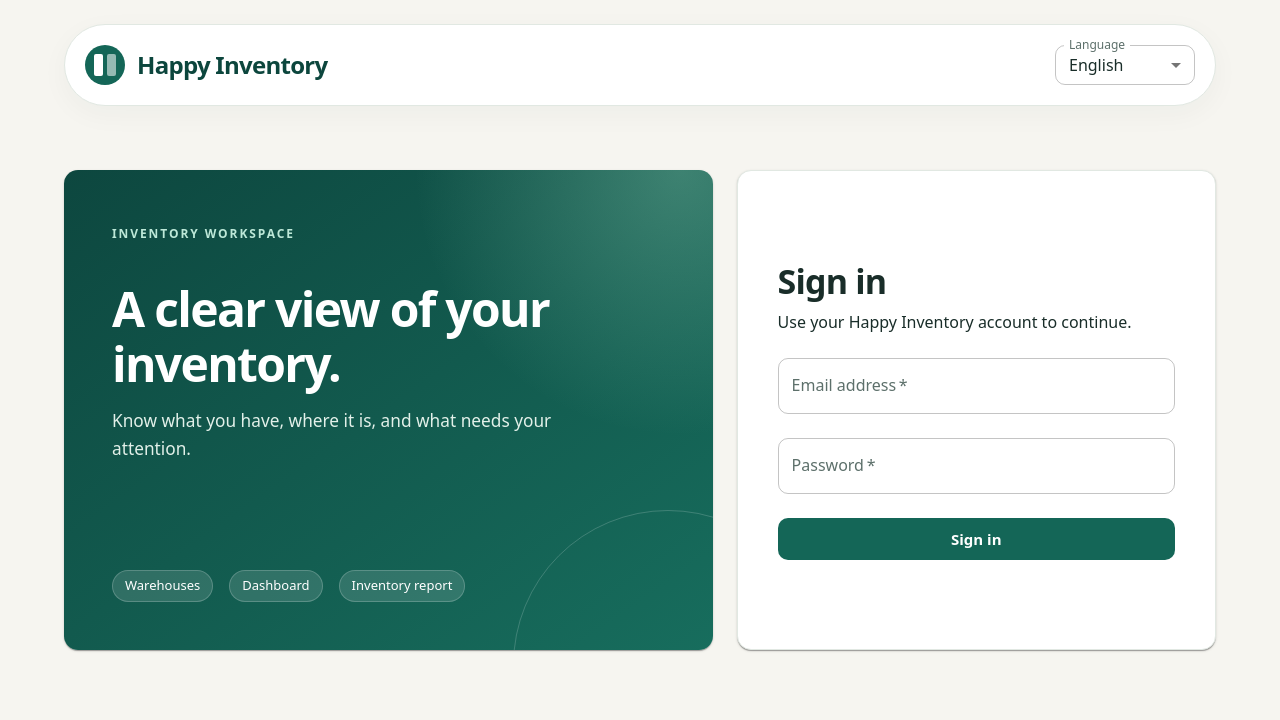
it: Phase 3 session UI › shows the localized disabled-account message
Type "disabled@example.com" into the field labelled "Email address".
click(976, 386); type("disabled@example.com")  # box [778,358,1175,414]
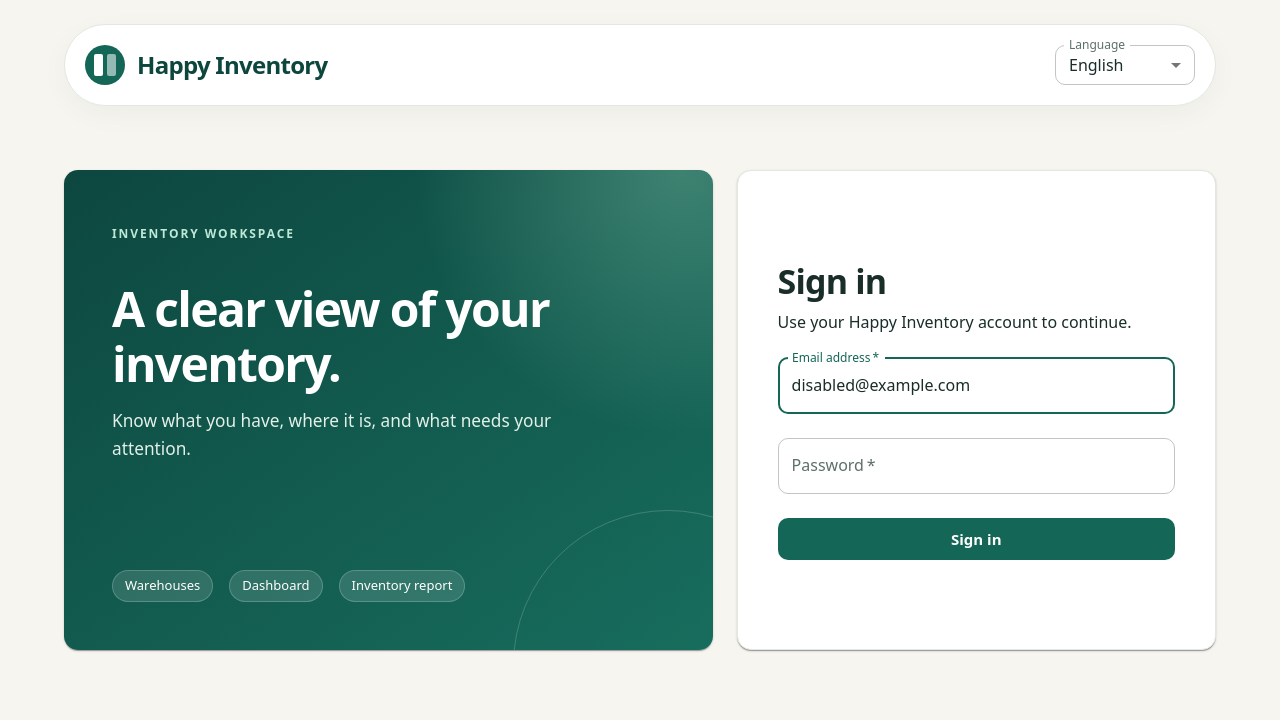
Type "correct-password" into the password field labelled "Password *".
click(976, 466); type("correct-password")  # box [778,438,1175,494]
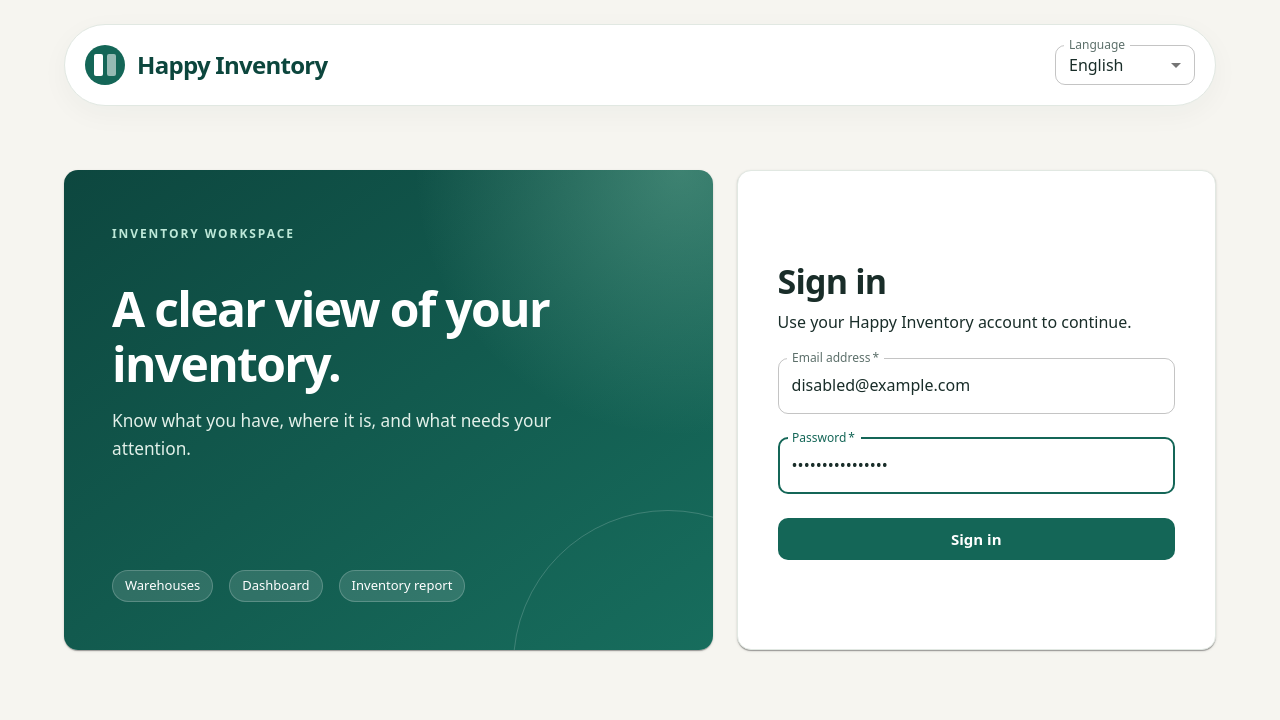
Click the button "Sign in".
click(976, 539)  # box [778,518,1175,560]
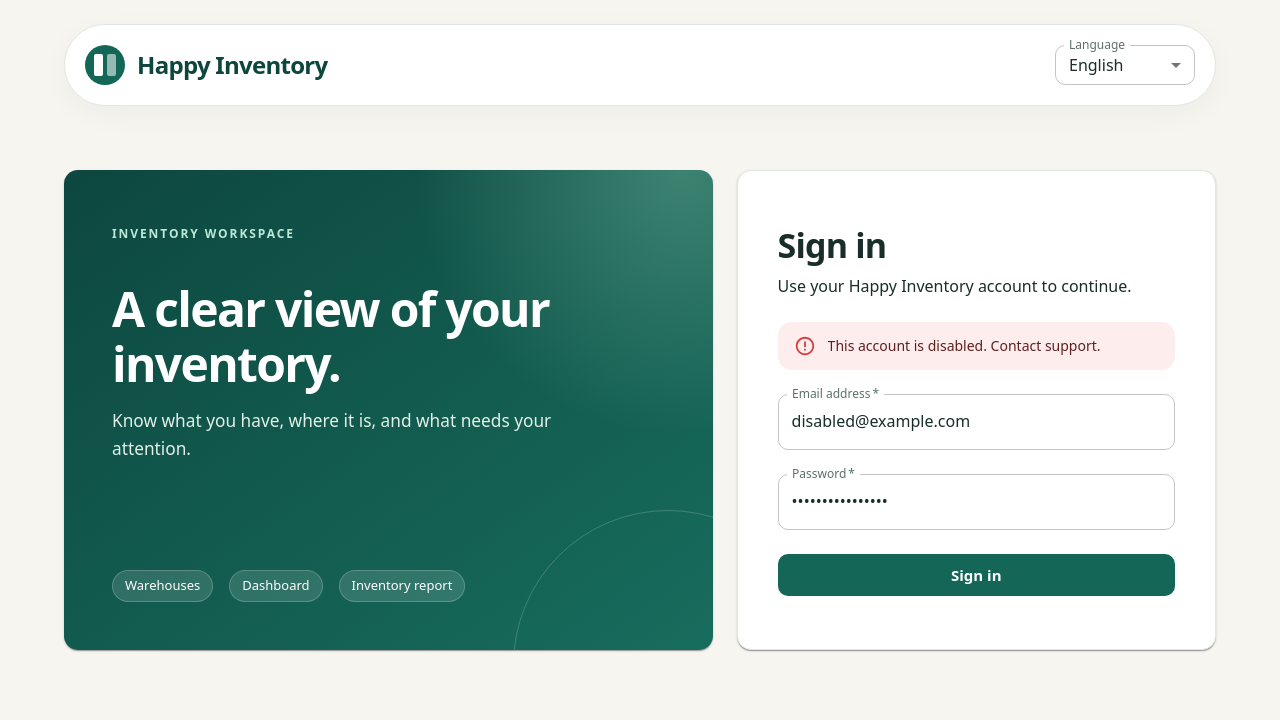
Check: the message reads "This account is disabled. Contact support.", box [828,336,1101,355]
